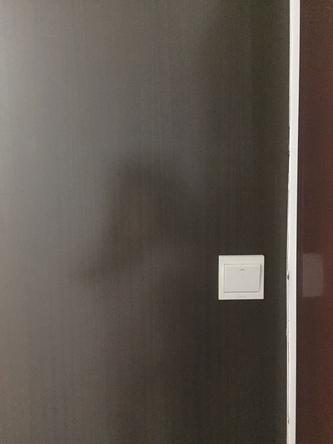switch: (222, 259, 264, 295)
